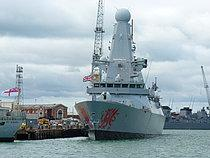MIL_Ship: (72, 6, 166, 140)
